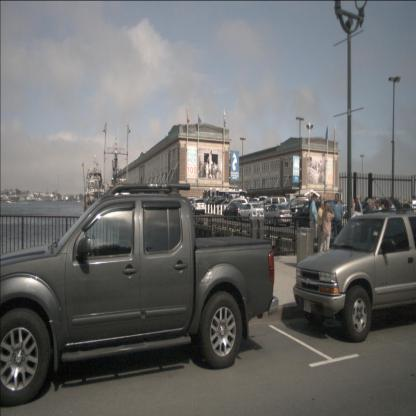human-pedestrian-adult: (319, 202, 335, 265), (330, 192, 344, 256), (350, 201, 364, 259), (386, 197, 398, 252), (309, 193, 319, 255), (317, 199, 326, 261), (374, 199, 383, 254), (354, 194, 364, 243), (366, 198, 376, 246), (348, 196, 358, 242)
vehicle-car: (294, 200, 335, 230), (282, 197, 311, 223), (262, 204, 293, 227), (238, 203, 265, 224), (256, 197, 287, 215), (224, 201, 246, 221), (190, 198, 206, 215)
vehicle-truck: (0, 185, 279, 407), (292, 210, 416, 340)
